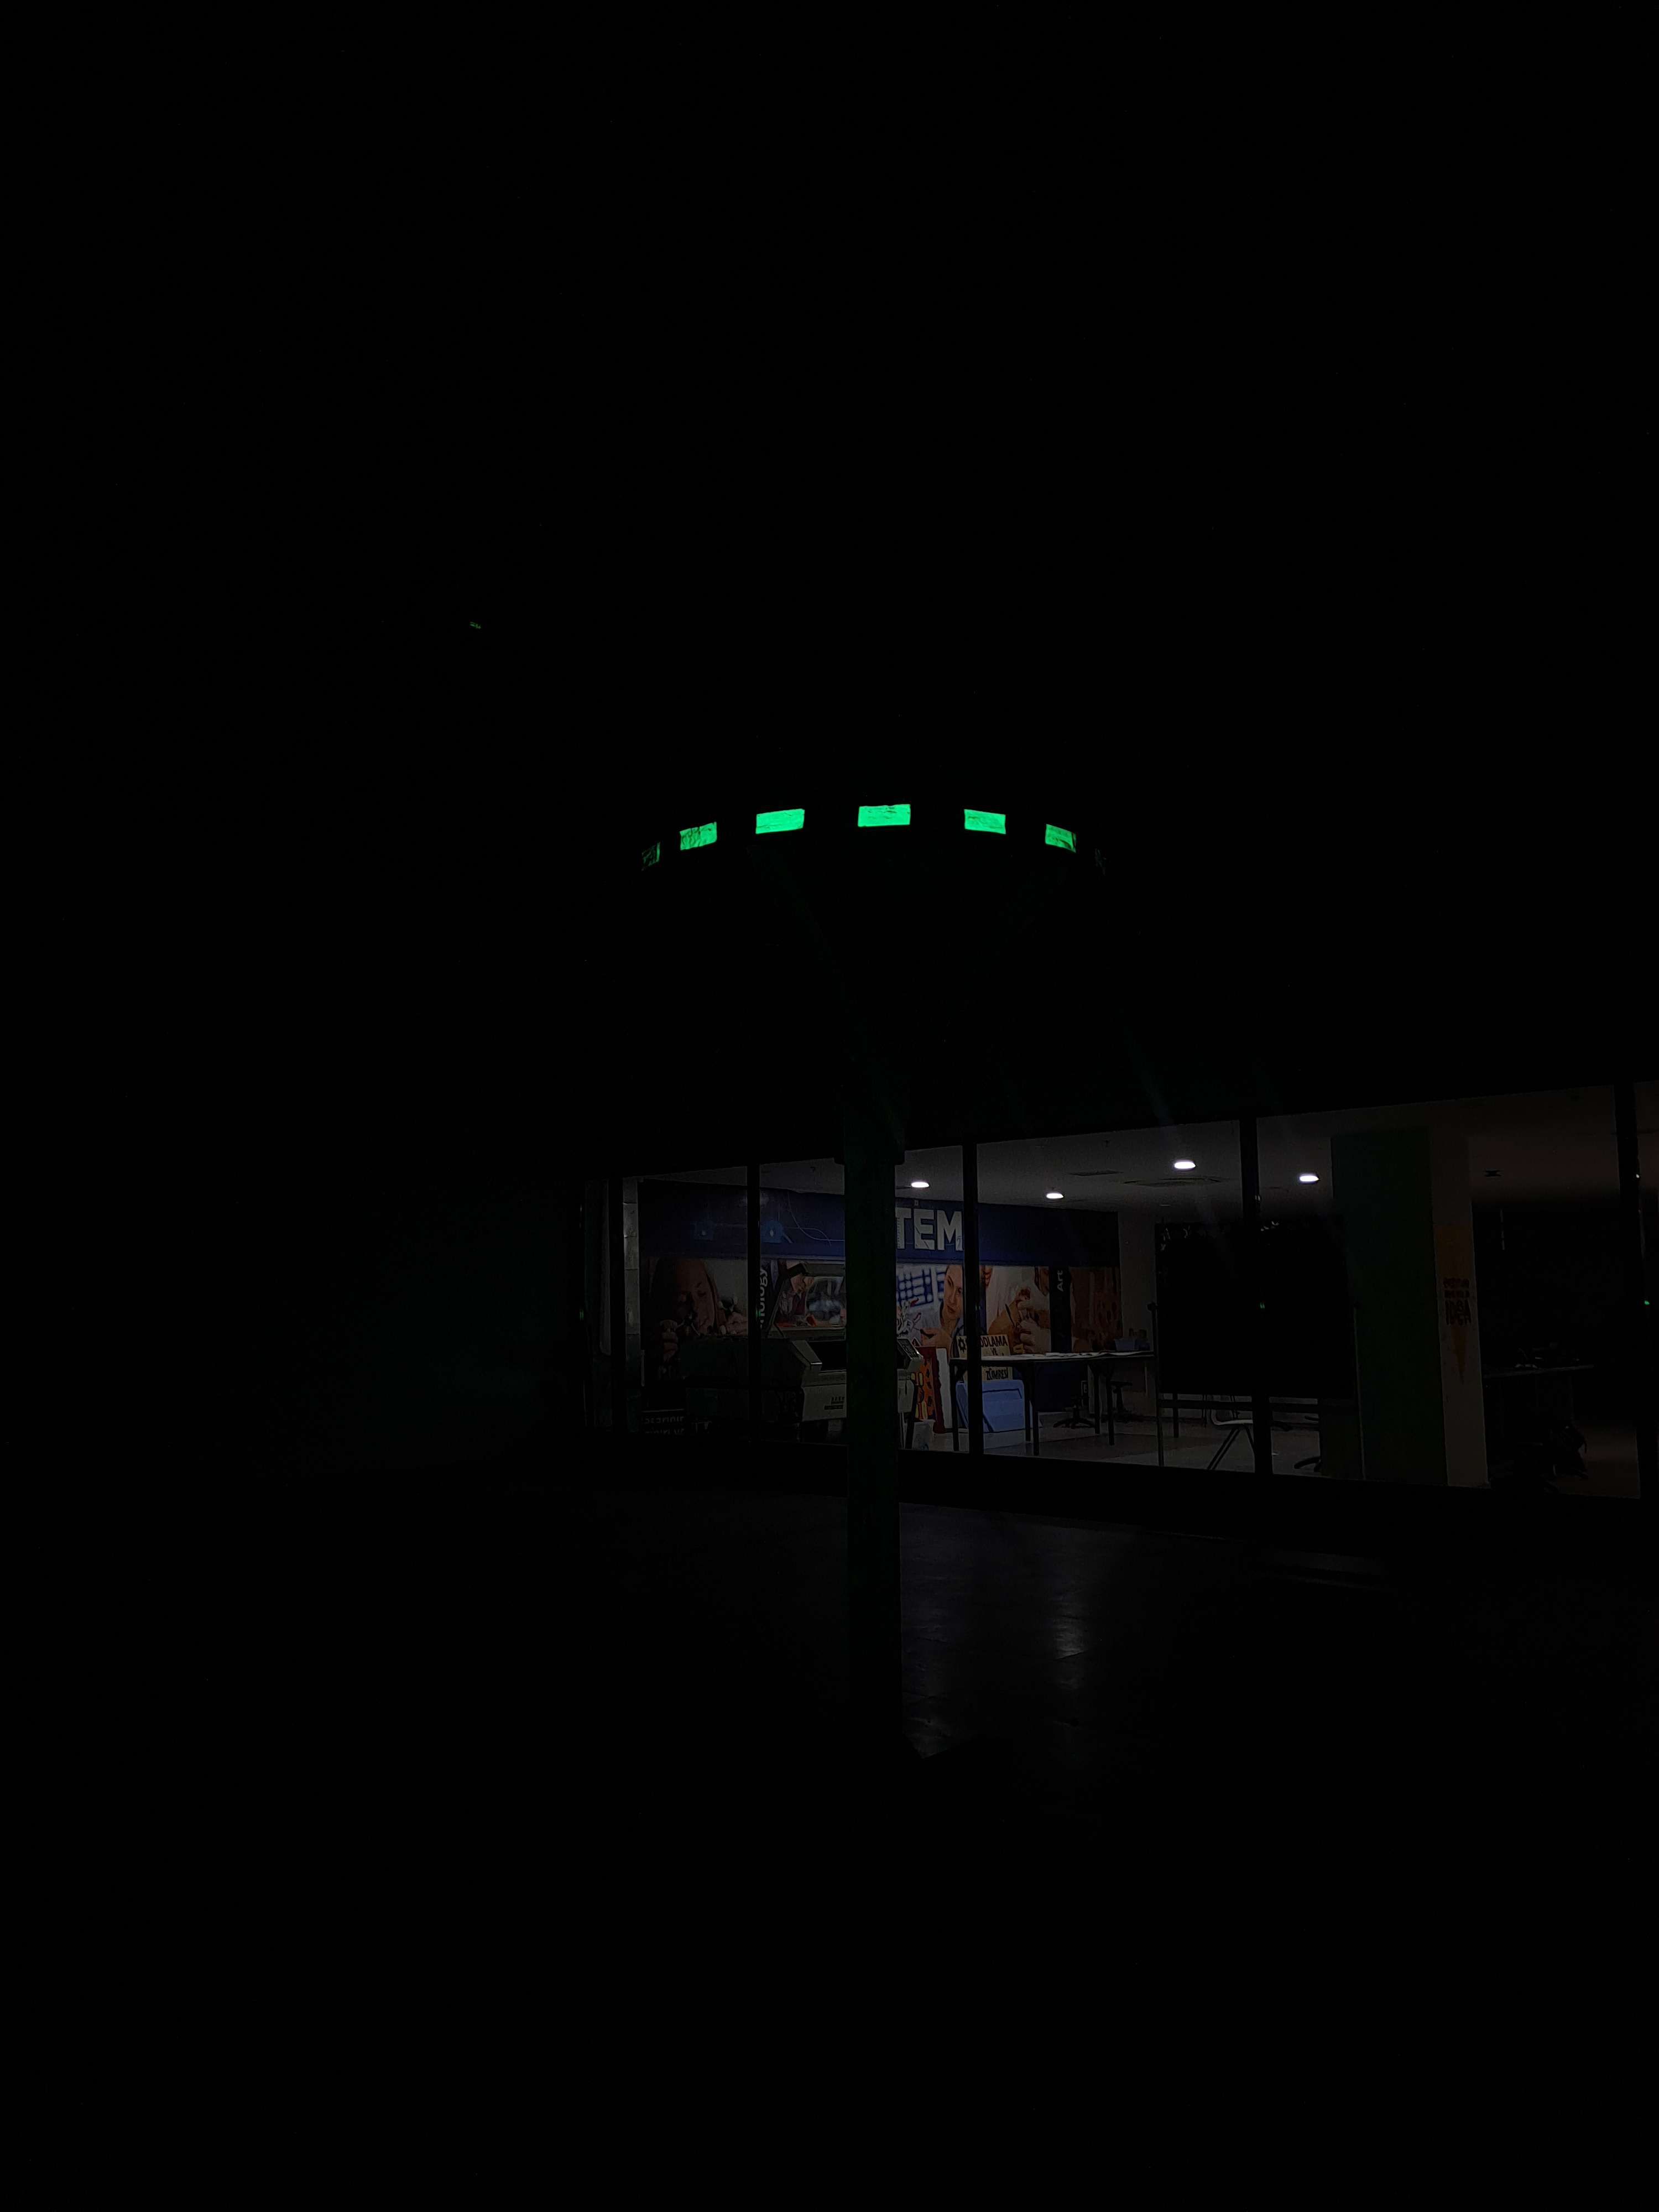hoop: (671, 799, 1079, 859)
